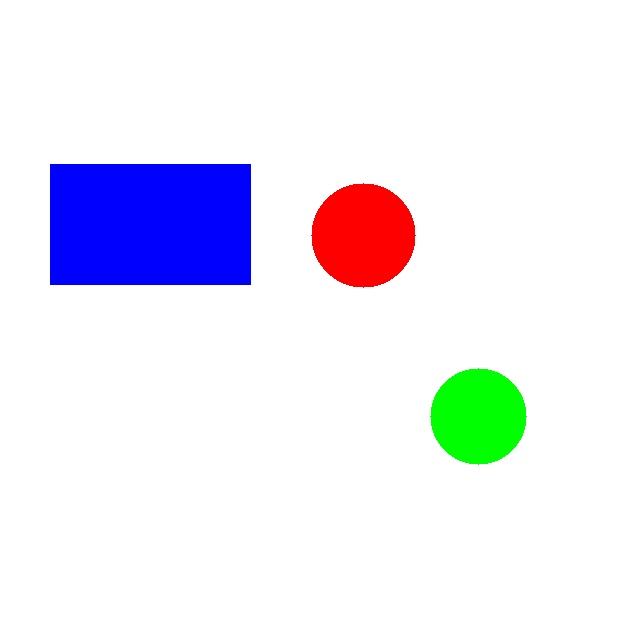cartao: (50, 164, 250, 284)
rosca_externa: (430, 368, 526, 464)
rosca_interna: (311, 183, 415, 287)
